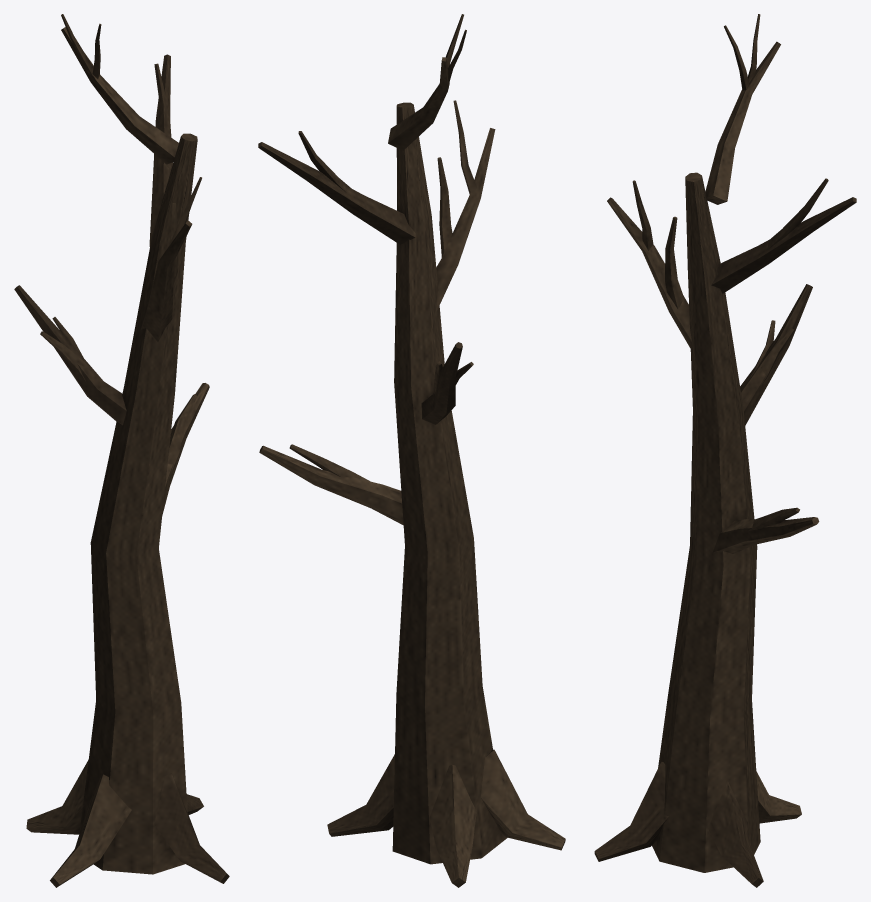
The model's file is Tree_Dead_01.obj.
3 renders of one model, left to right at view 1: azimuth 30°, elevation 25°; view 2: azimuth 150°, elevation 25°; view 3: azimuth 270°, elevation 25°, orthographic. The views are drawn at different scales.
Visible parts, largest first — view 1: Tree_Dead_01; view 2: Tree_Dead_01; view 3: Tree_Dead_01.
Part boxes in pixels (x1=…): Tree_Dead_01: x1=14, y1=14, x2=229, y2=887; Tree_Dead_01: x1=258, y1=14, x2=565, y2=887; Tree_Dead_01: x1=594, y1=14, x2=856, y2=887.
Size of the model in its own units: 0.9474 by 3.29 by 0.9608.
1 material, 1 textured.
